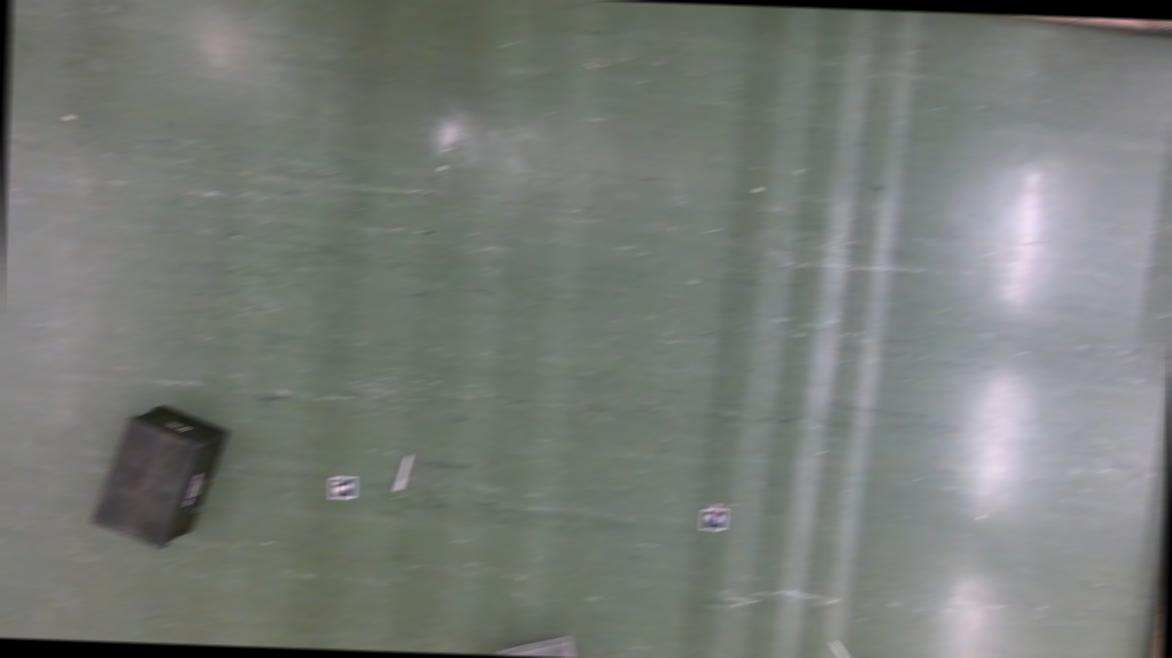probes: (395, 452, 415, 491), (828, 640, 856, 658)
rako: (90, 399, 230, 550)
